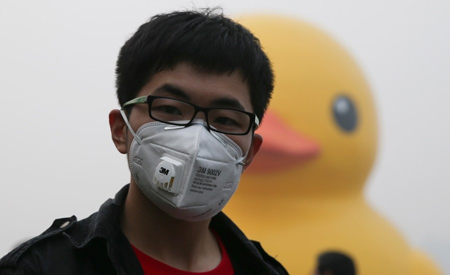face_mask: (127, 64, 254, 219)
